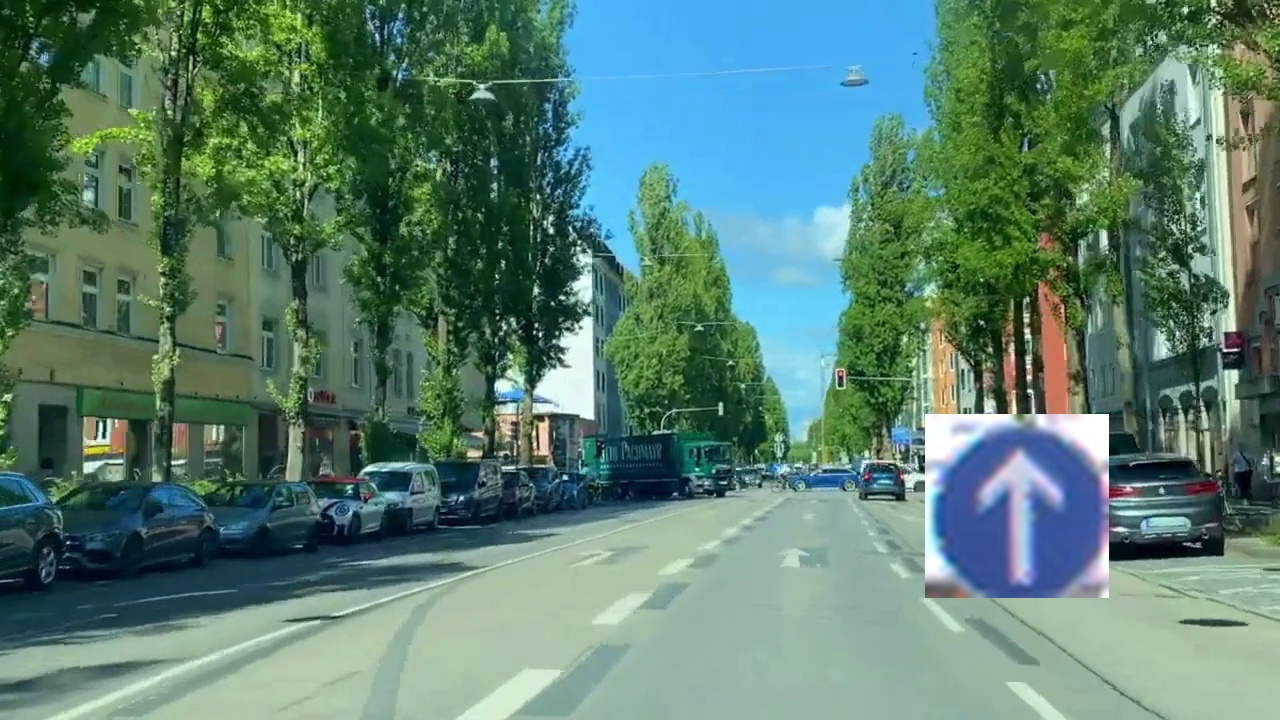Ahead only: (925, 414, 1109, 598)
